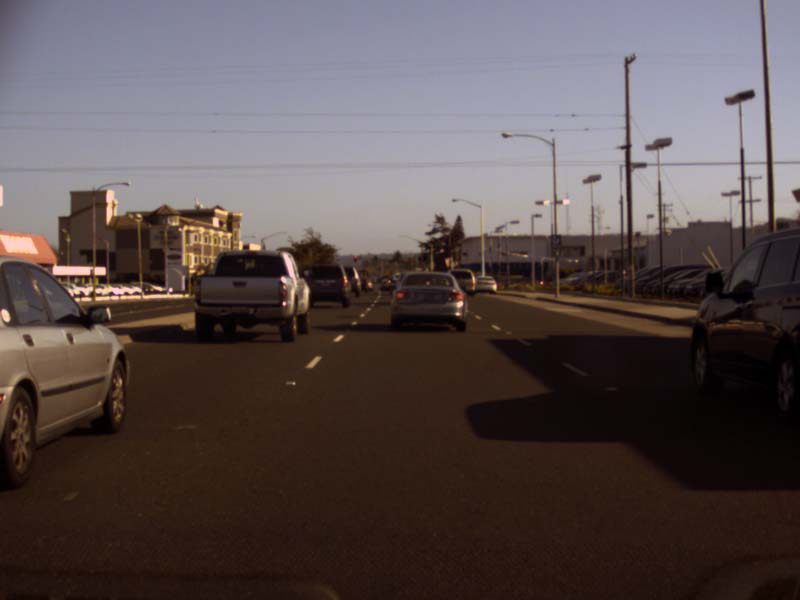Green: (373, 256, 377, 263)
Red: (353, 254, 358, 262)
